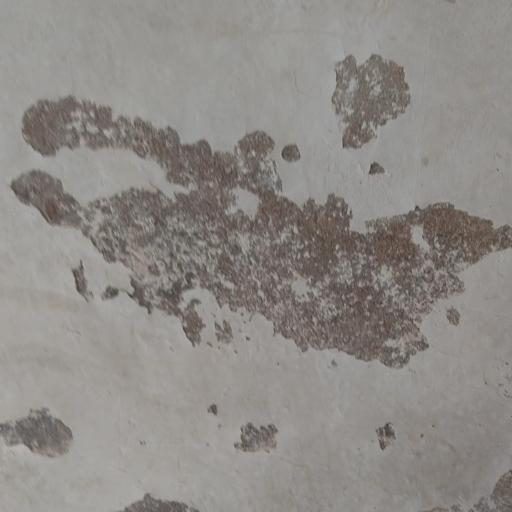peeling: (0, 94, 512, 379), (331, 33, 434, 185), (200, 387, 307, 467), (427, 438, 512, 512), (0, 398, 86, 467), (110, 480, 222, 512), (362, 396, 411, 457)
